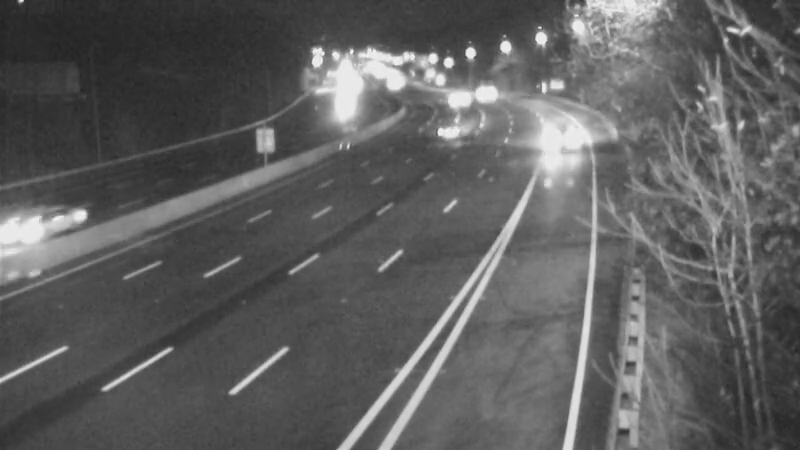vehicle: (4, 185, 84, 265), (464, 68, 514, 118), (427, 73, 477, 123), (423, 102, 473, 152), (531, 108, 581, 158)
